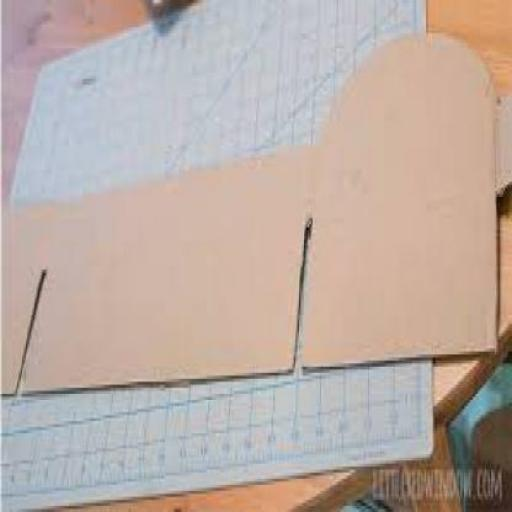cardboard: (0, 30, 511, 397)
